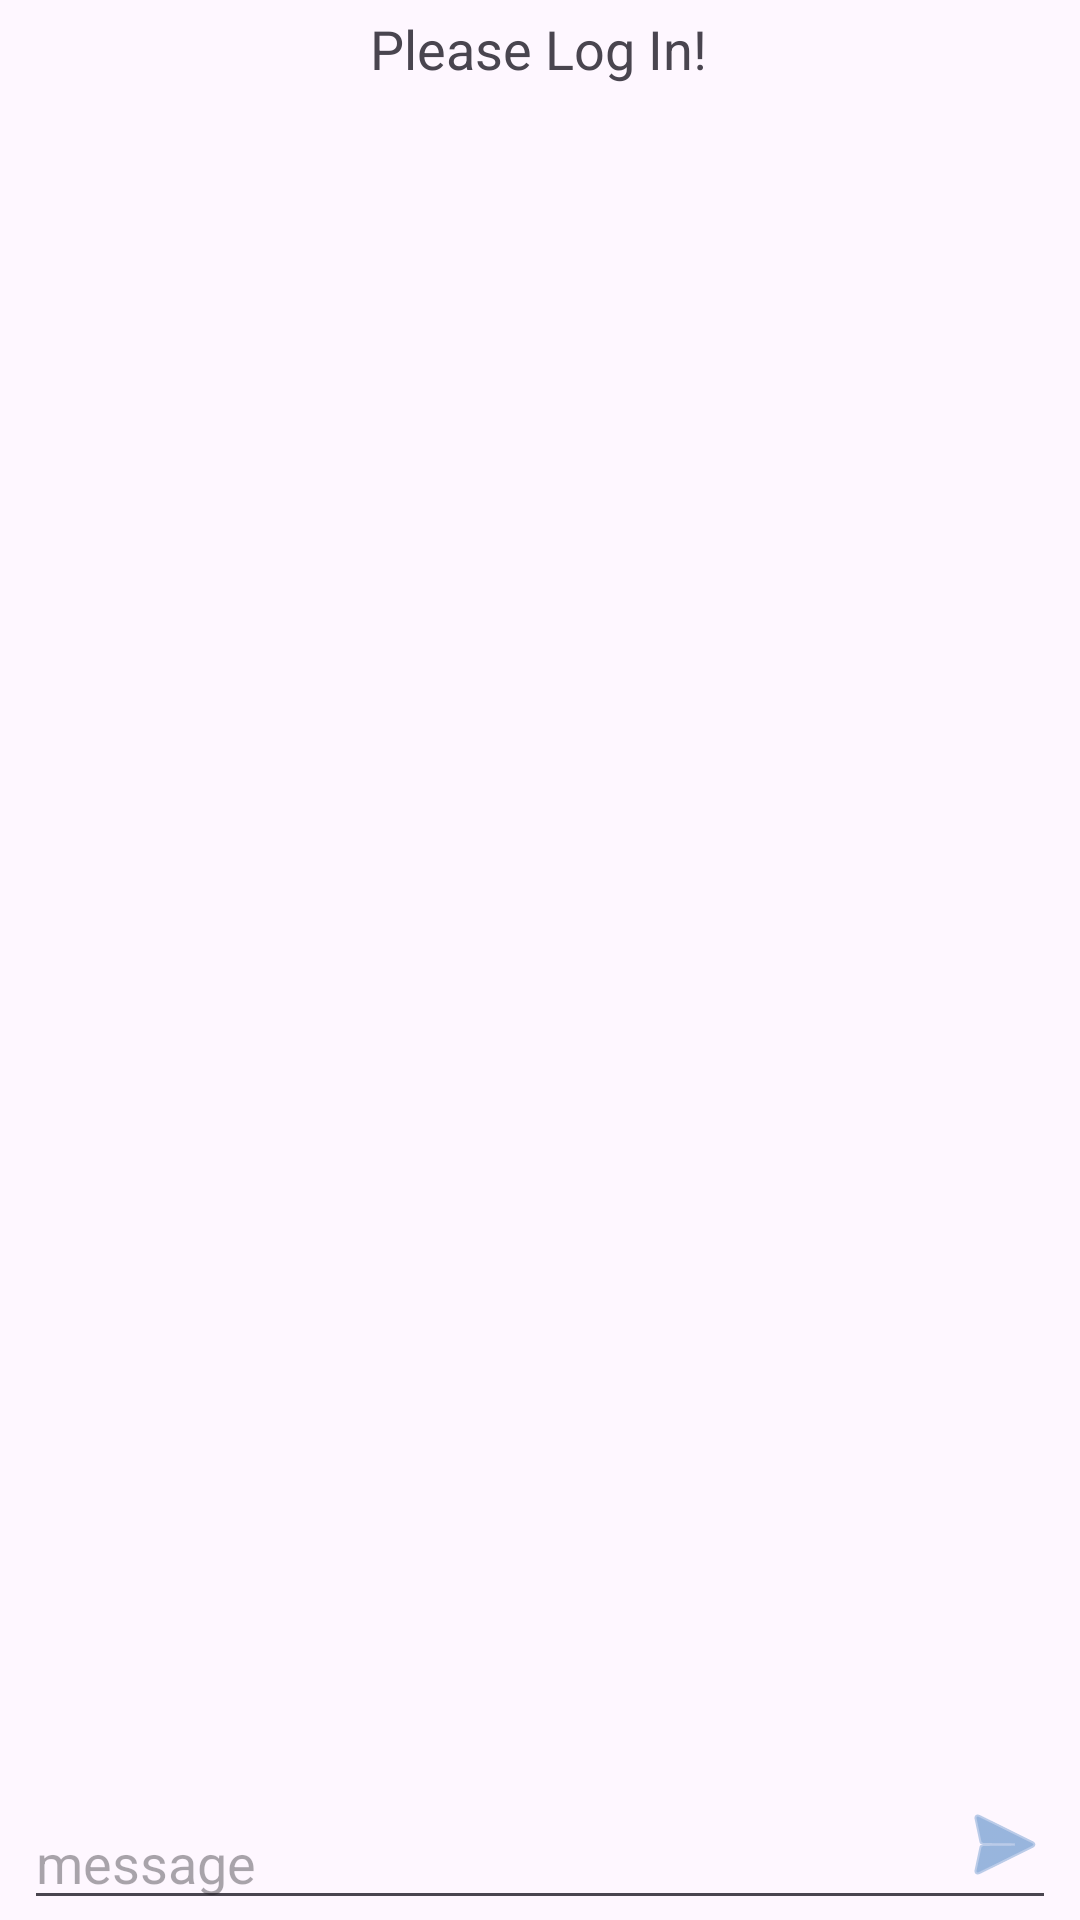

Screen size 1080×1920. Icon name, then its box in pixels as detection(x1, y1, x2, y2):
send: detection(974, 1814, 1035, 1875)
